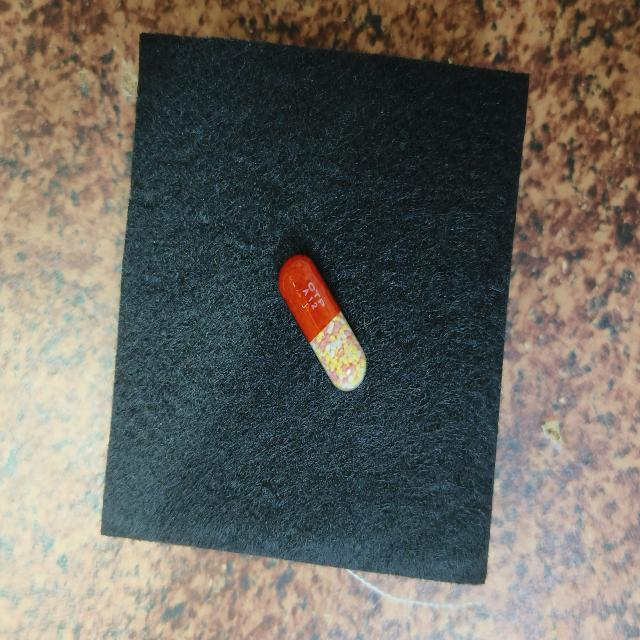Intact Capsule: (278, 255, 366, 391)
